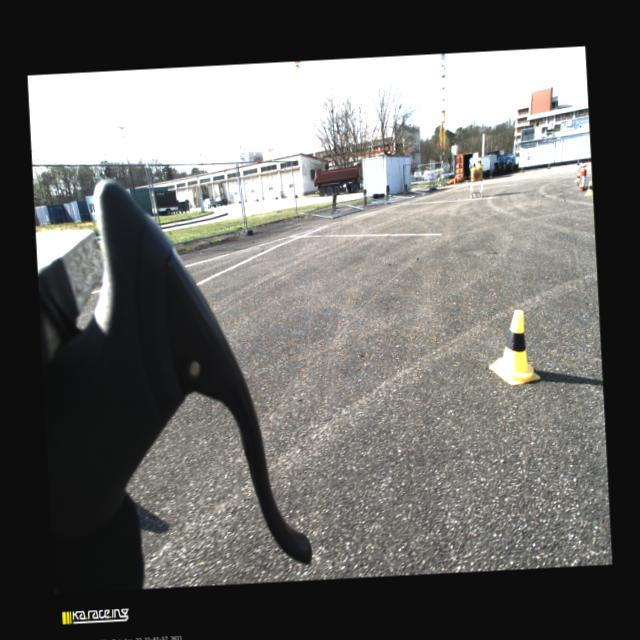yellow_cone: (486, 308, 540, 386), (584, 181, 592, 196), (574, 172, 580, 182), (472, 162, 477, 170), (478, 158, 482, 167), (477, 158, 480, 166)
